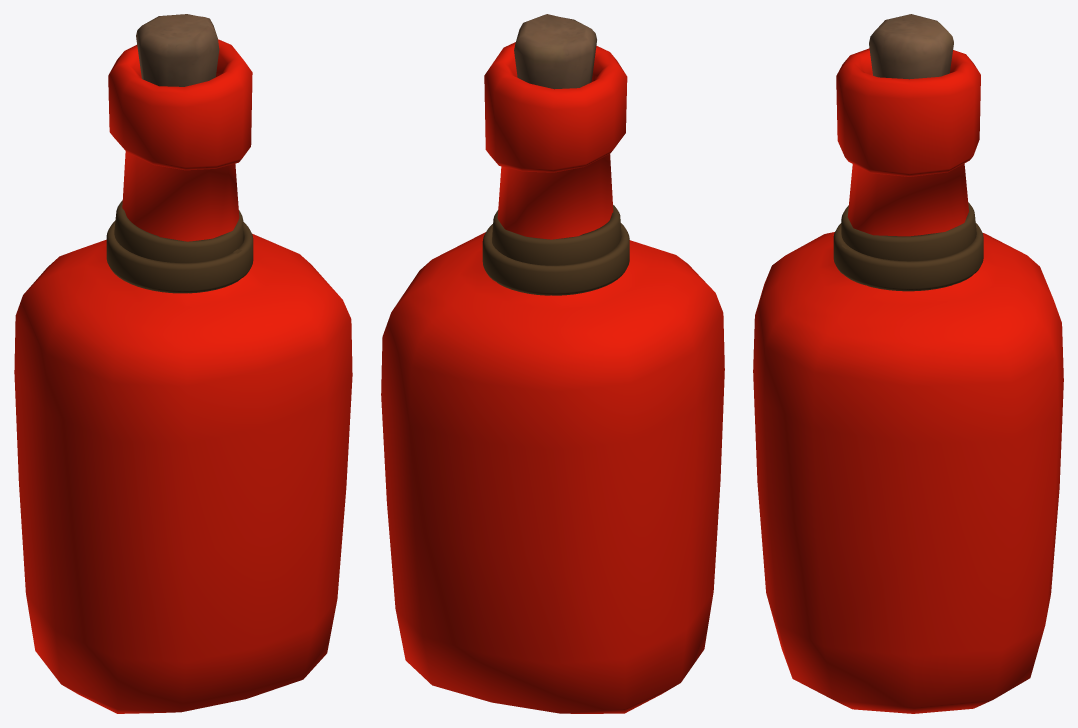
Rendered from LargeHealth.gltf.
3 views of the same model, side by side, from view 1: azimuth 30°, elevation 25°; view 2: azimuth 150°, elevation 25°; view 3: azimuth 270°, elevation 25° (orthographic).
Parts seen in each view (by area): view 1: LargeHealth; view 2: LargeHealth; view 3: LargeHealth.
Boxes of the visible parts, x1,y1,x2,y2 form: LargeHealth: (14, 14, 352, 713); LargeHealth: (381, 14, 724, 713); LargeHealth: (753, 14, 1063, 713).
Size of the model in its own units: 1.29 by 2.88 by 1.26.
Materials: 3 (1 with a texture image).
